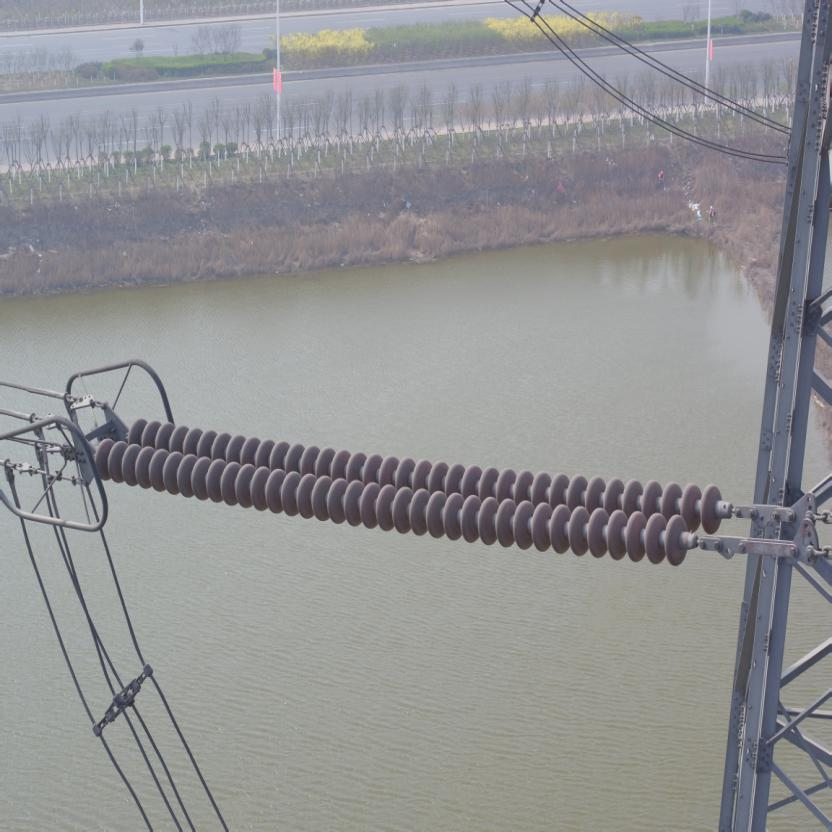insulator: (84, 407, 763, 568)
